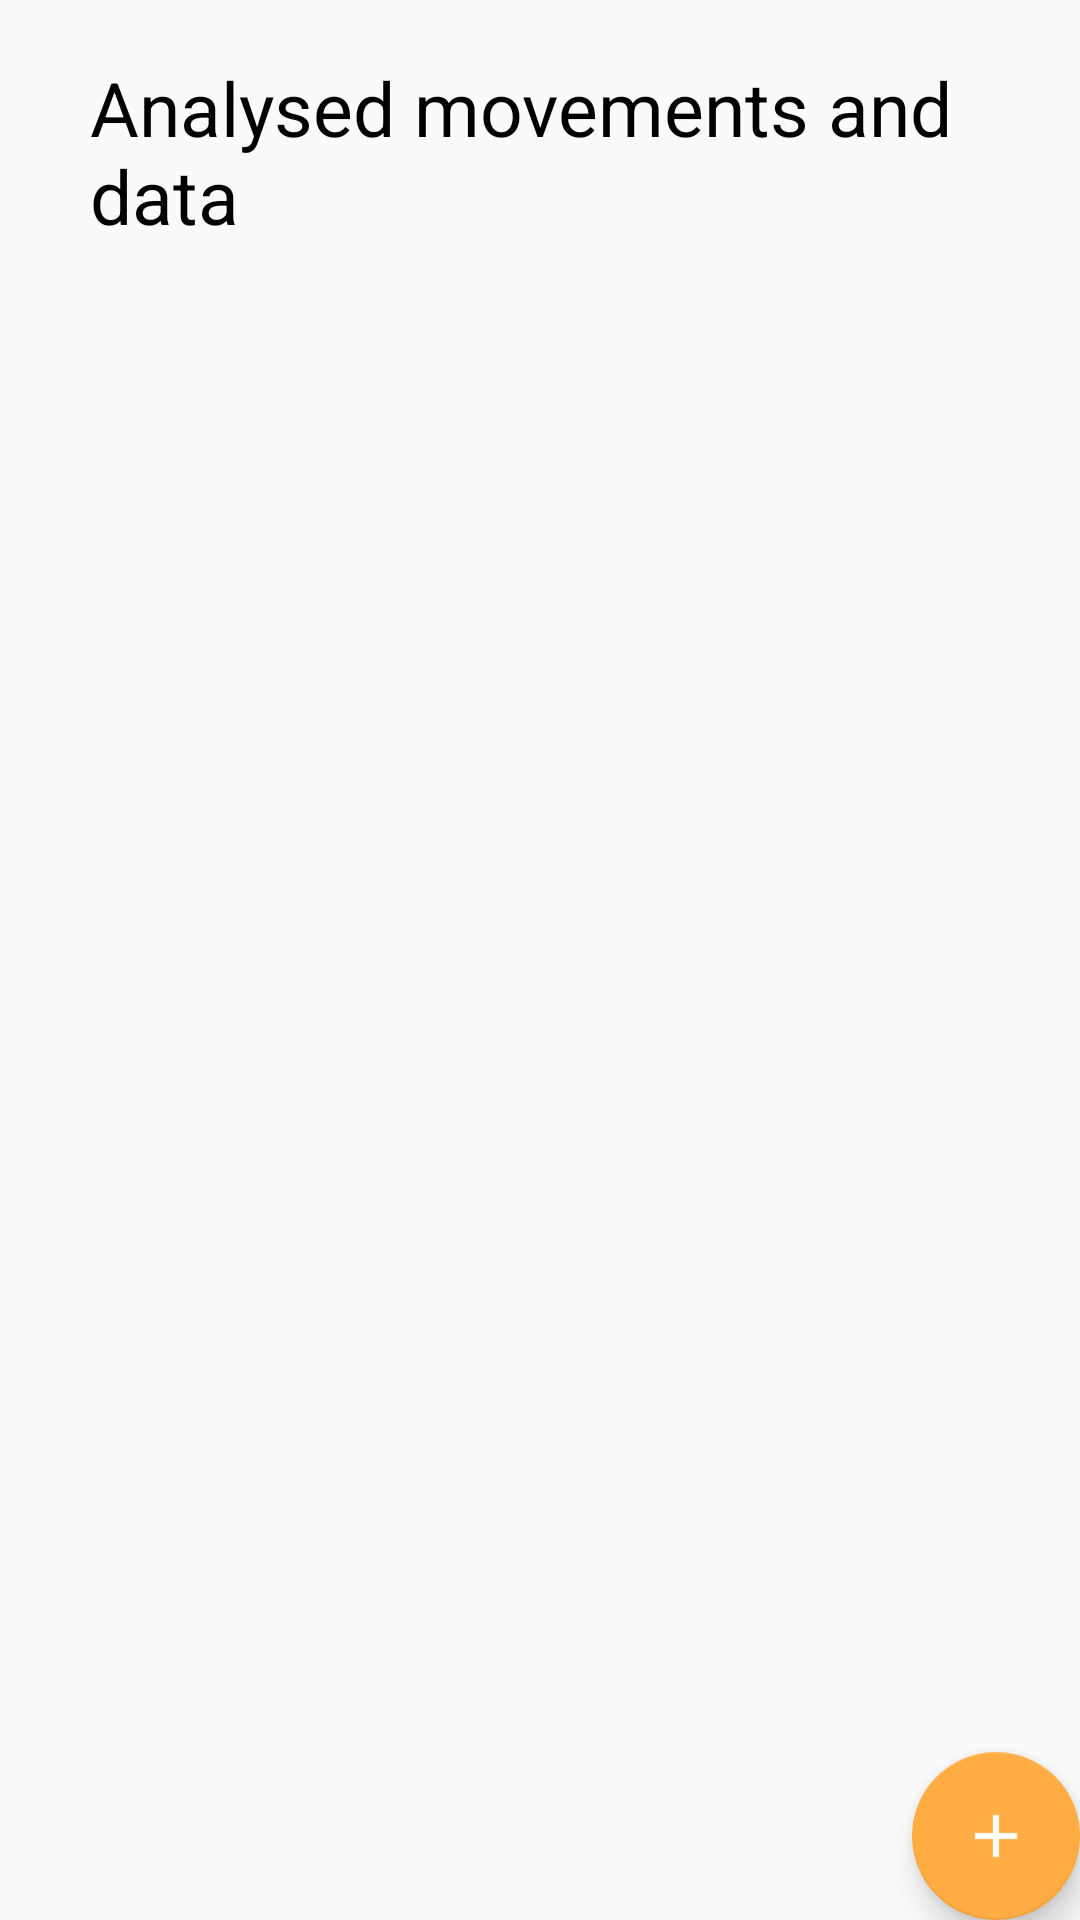

Icon click points for this 1080px x 1920px phone screenshot, format point (x, y):
plus: point (996, 1836)
